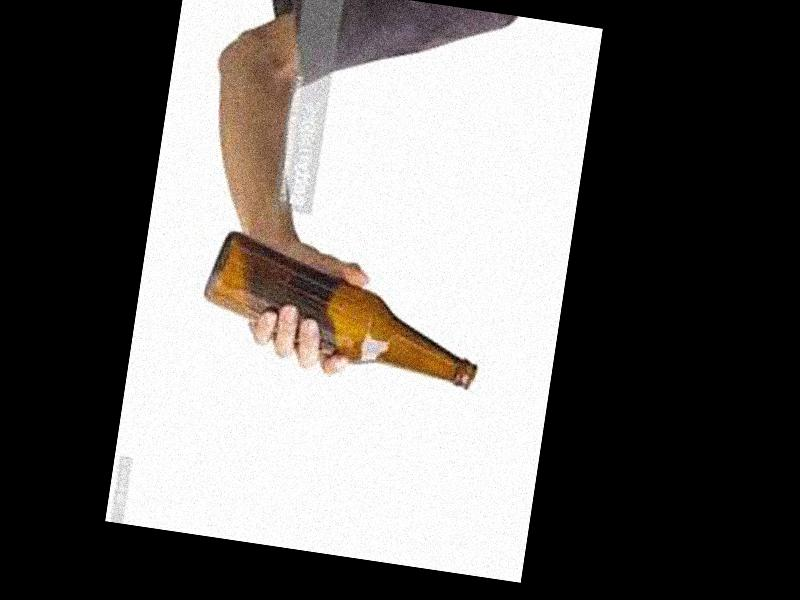Beer: (197, 226, 491, 390)
